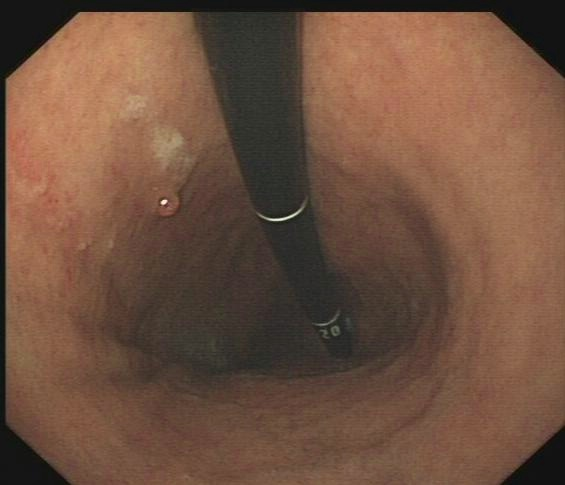Polyp: (146, 177, 198, 227)
